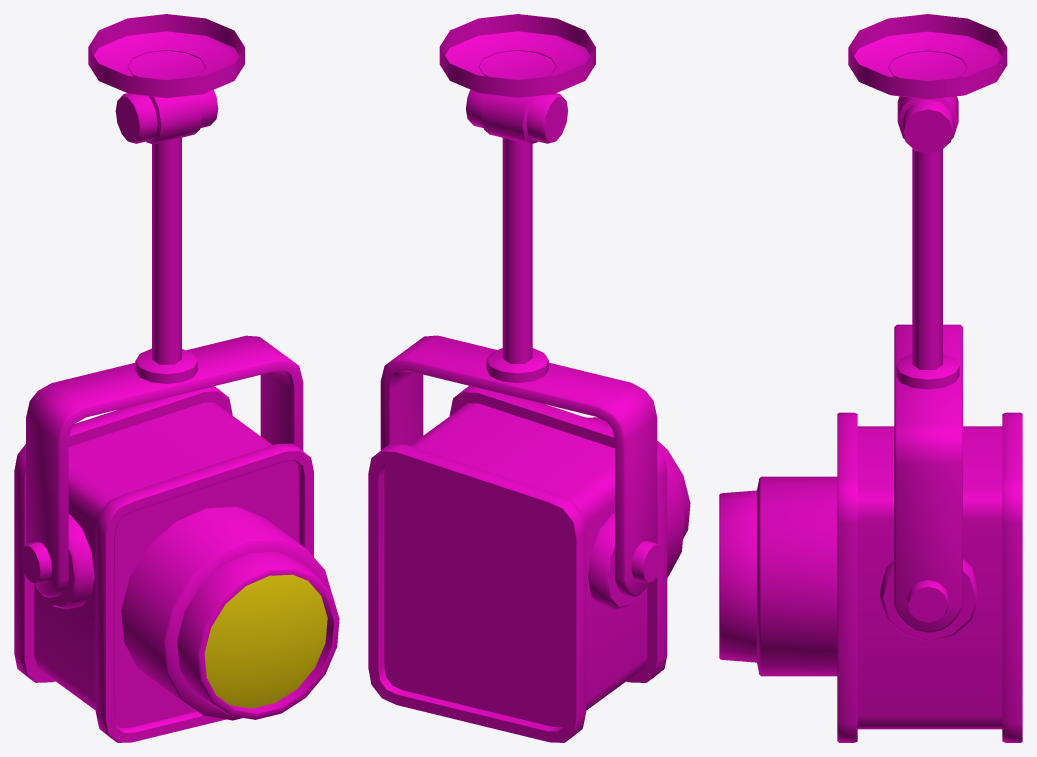
The model's file is Lumiere_Metal_01.FBX.
The picture shows the model from 3 angles, left to right: view 1: azimuth 30°, elevation 25°; view 2: azimuth 150°, elevation 25°; view 3: azimuth 270°, elevation 25°; orthographic projection.
Parts seen in each view (by area): view 1: Lumiere_Metal_01_LOD0; view 2: Lumiere_Metal_01_LOD0; view 3: Lumiere_Metal_01_LOD0.
Boxes of the visible parts, left/top/right/bottom form: Lumiere_Metal_01_LOD0: left=14, top=14, right=339, bottom=742; Lumiere_Metal_01_LOD0: left=368, top=14, right=690, bottom=742; Lumiere_Metal_01_LOD0: left=719, top=14, right=1022, bottom=742.
Size of the model in its own units: 39.21 by 90.07 by 37.91.
